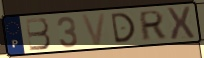3: (57, 15, 79, 49)
B: (24, 17, 53, 52)
D: (109, 12, 137, 45)
R: (139, 9, 167, 43)
V: (80, 12, 108, 47)
X: (165, 5, 197, 42)
